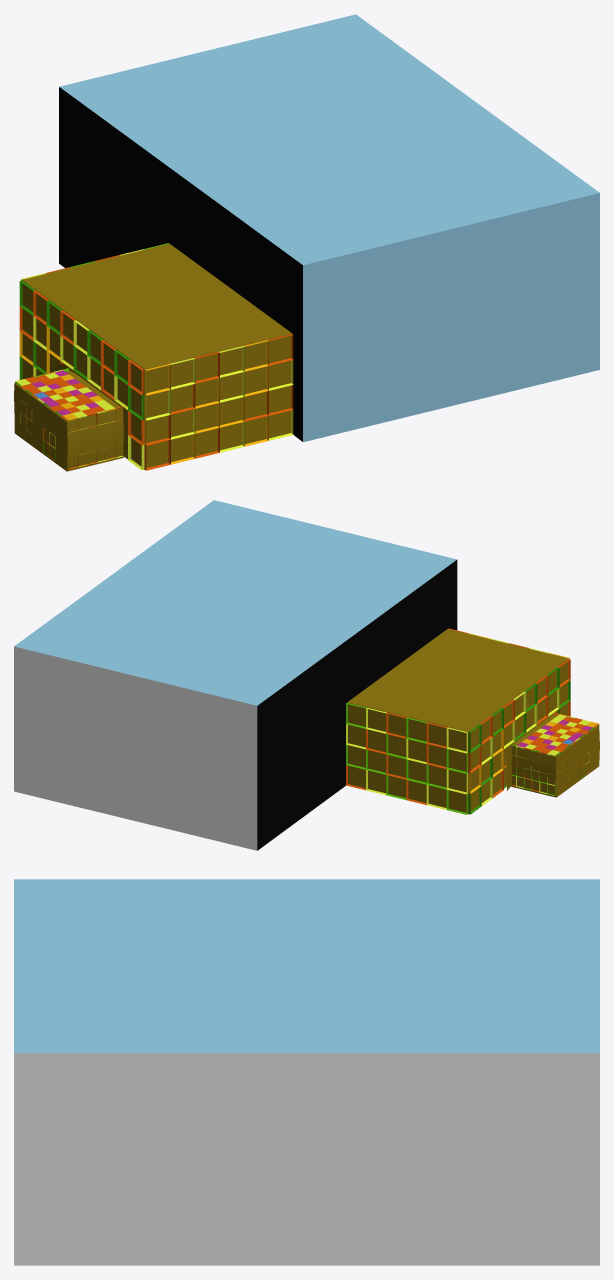
Rendered from 1level 1.fbx.
3 renders of one model, top to bottom at view 1: azimuth 30°, elevation 25°; view 2: azimuth 150°, elevation 25°; view 3: azimuth 270°, elevation 25°, orthographic. The views are drawn at different scales.
Visible parts, largest first — view 1: Cube.007; view 2: Cube.007; view 3: Cube.007.
Boxes of the visible parts, <box> form: Cube.007: <box>14,14,599,471</box>; Cube.007: <box>14,500,599,850</box>; Cube.007: <box>14,879,599,1265</box>.
Bounding box in the file's own units: 4147 × 1420 × 3491.
5 materials, 1 textured.
